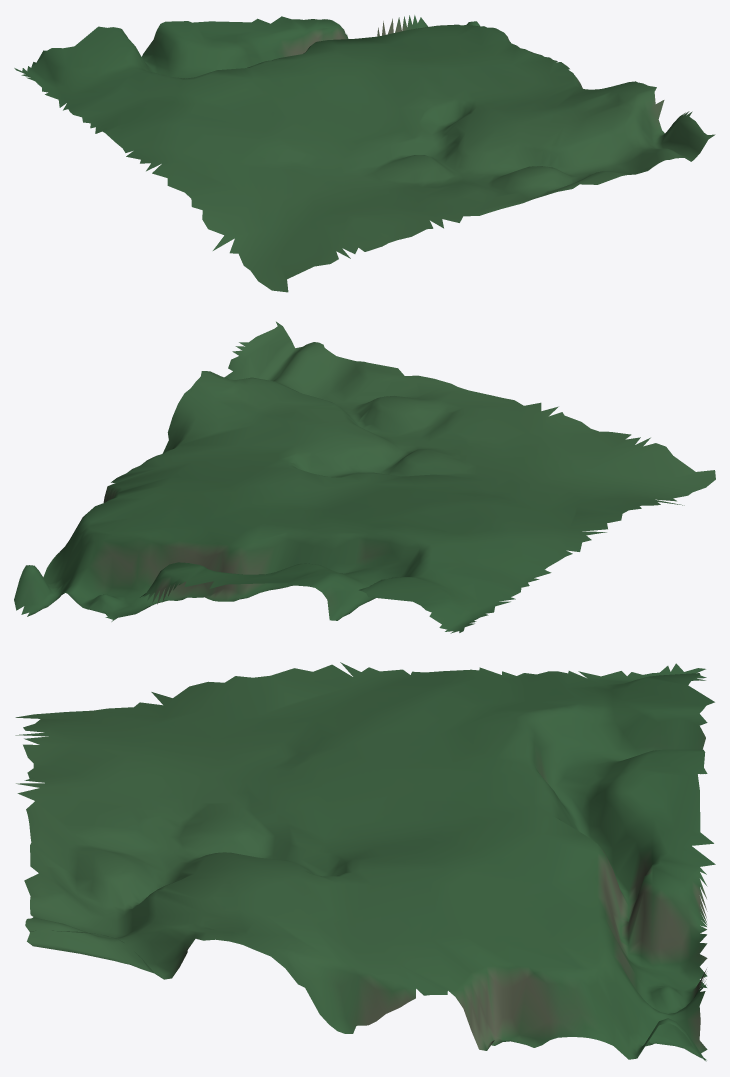
File: payo_land_xm2_y8_lod1.glb
The picture shows the model from 3 angles, top to bottom: view 1: azimuth 30°, elevation 25°; view 2: azimuth 150°, elevation 25°; view 3: azimuth 270°, elevation 25°; orthographic projection. The views are drawn at different scales.
Visible parts, largest first — view 1: payo_land_xm2_y8; view 2: payo_land_xm2_y8; view 3: payo_land_xm2_y8.
Boxes of the visible parts, box(x1,y1,x2,y2) form: payo_land_xm2_y8: box(14, 15, 715, 292); payo_land_xm2_y8: box(14, 321, 715, 633); payo_land_xm2_y8: box(15, 662, 715, 1061).
Size of the model in its own units: 268 by 58.37 by 267.
